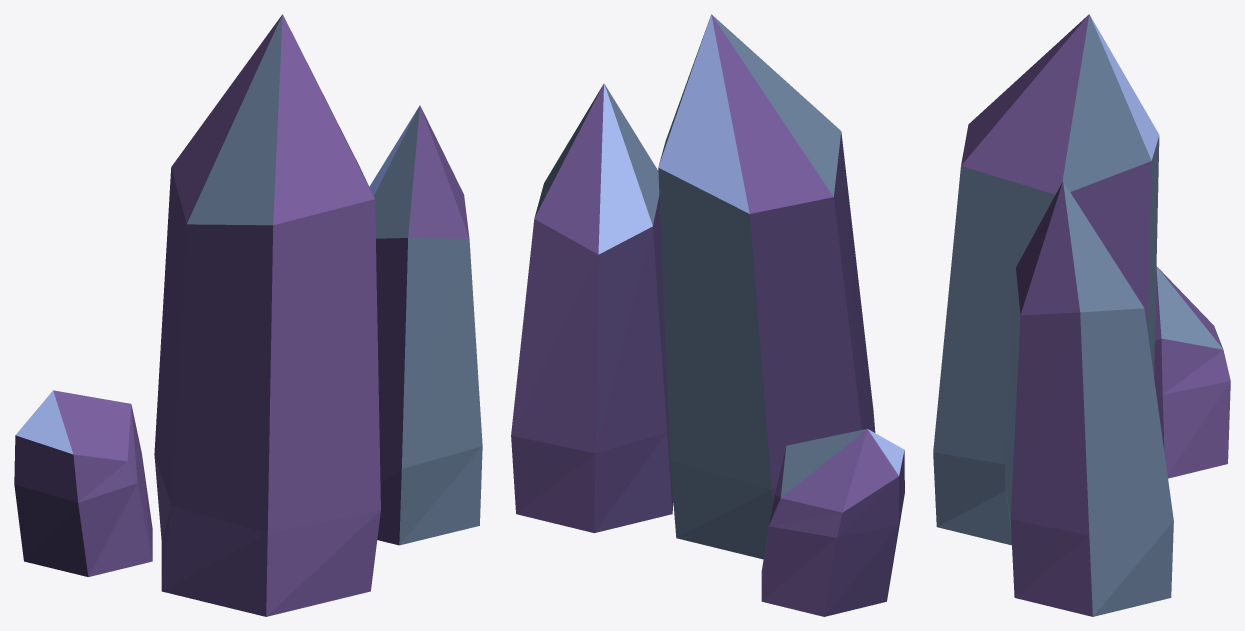
File: Crystal_Blockout_C_Detail_v1.glb
3 views of the same model, side by side, from view 1: azimuth 30°, elevation 25°; view 2: azimuth 150°, elevation 25°; view 3: azimuth 270°, elevation 25° (orthographic). The views are drawn at different scales.
Parts seen in each view (by area): view 1: Crystal_Blockout_C_Detail_v1.001; view 2: Crystal_Blockout_C_Detail_v1.001; view 3: Crystal_Blockout_C_Detail_v1.001.
Boxes of the visible parts, x1,y1,x2,y2 form: Crystal_Blockout_C_Detail_v1.001: (14,14,482,616); Crystal_Blockout_C_Detail_v1.001: (511,14,904,616); Crystal_Blockout_C_Detail_v1.001: (933,14,1230,616).
Size of the model in its own units: 2.67 by 3.1 by 1.64.
